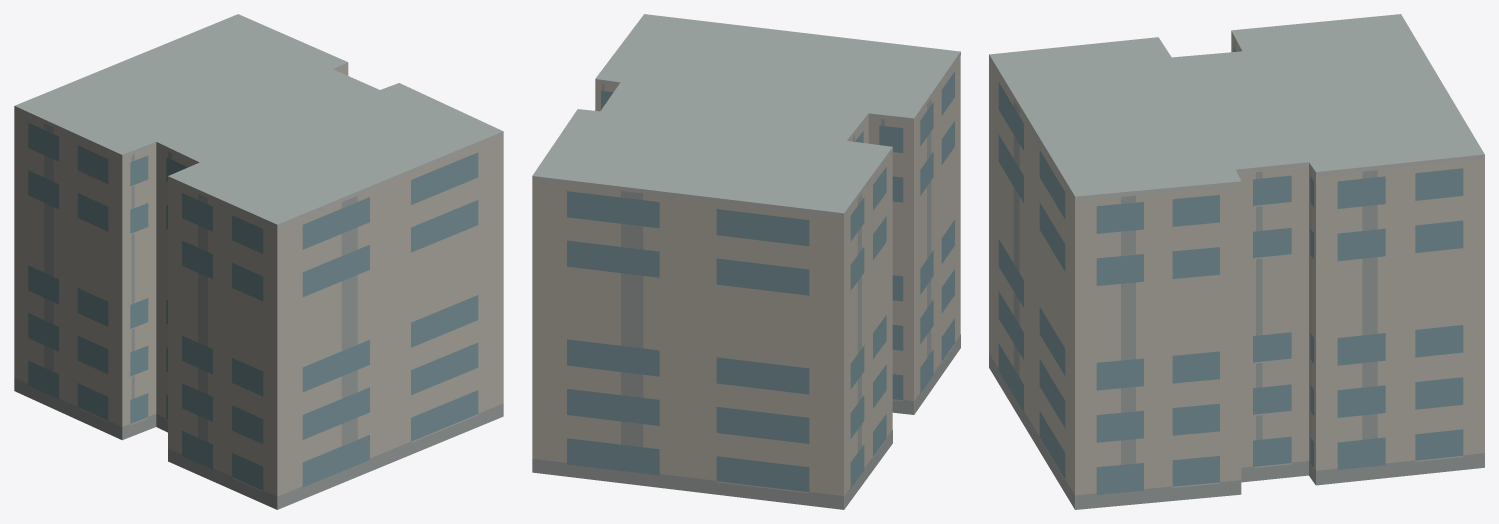
The model's file is survey-upis-33042523.glb.
The picture shows the model from 3 angles, left to right: view 1: azimuth 30°, elevation 25°; view 2: azimuth 150°, elevation 25°; view 3: azimuth 270°, elevation 25°; orthographic projection. The views are drawn at different scales.
Visible parts, largest first — view 1: survey-upis-33042523.tmp; view 2: survey-upis-33042523.tmp; view 3: survey-upis-33042523.tmp.
Boxes of the visible parts, <box> form: survey-upis-33042523.tmp: <box>14,14,503,509</box>; survey-upis-33042523.tmp: <box>532,14,960,509</box>; survey-upis-33042523.tmp: <box>989,14,1484,509</box>.
Bounding box in the file's own units: 21.2 × 16.95 × 24.32.
